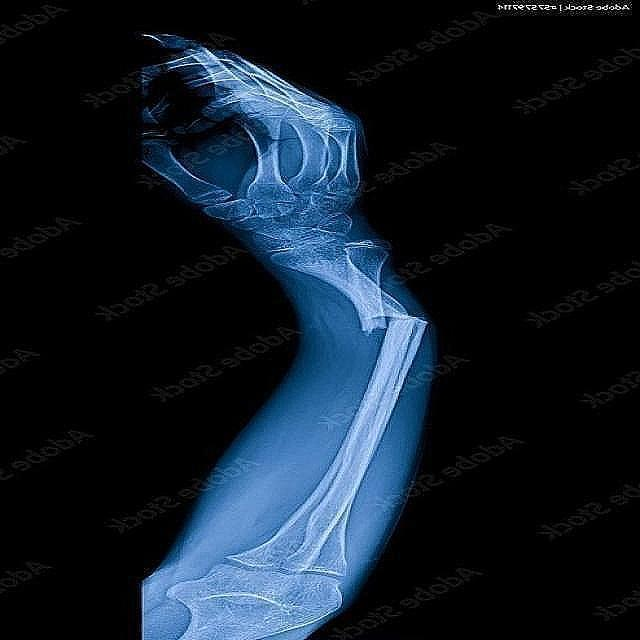bone: (355, 311, 390, 347), (395, 310, 431, 342)
